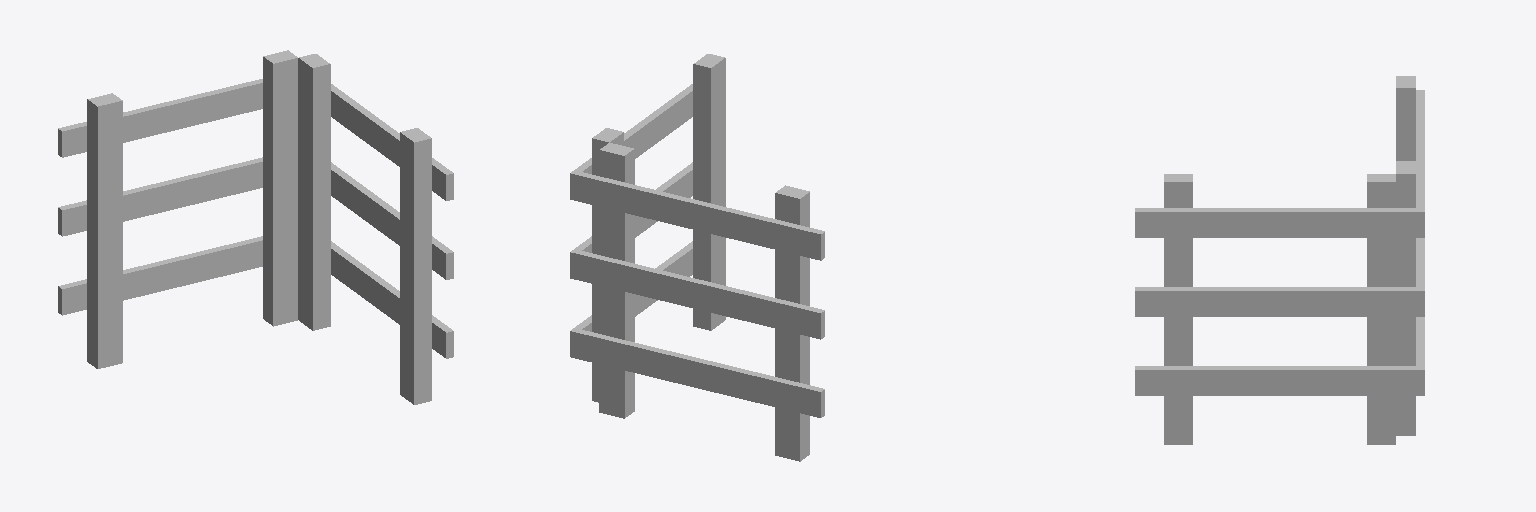
Rendered from woodfencecornerx+.obj.
The picture shows the model from 3 angles: view 1: azimuth 30°, elevation 25°; view 2: azimuth 150°, elevation 25°; view 3: azimuth 270°, elevation 25°; orthographic projection.
Visible parts, largest first — view 1: bedx+.000_bedx+.003; view 2: bedx+.000_bedx+.003; view 3: bedx+.000_bedx+.003.
Boxes of the visible parts, <box> form: bedx+.000_bedx+.003: <box>58,50,453,404</box>; bedx+.000_bedx+.003: <box>570,54,824,461</box>; bedx+.000_bedx+.003: <box>1135,76,1424,444</box>.
Bounding box in the file's own units: 1 × 1 × 1.